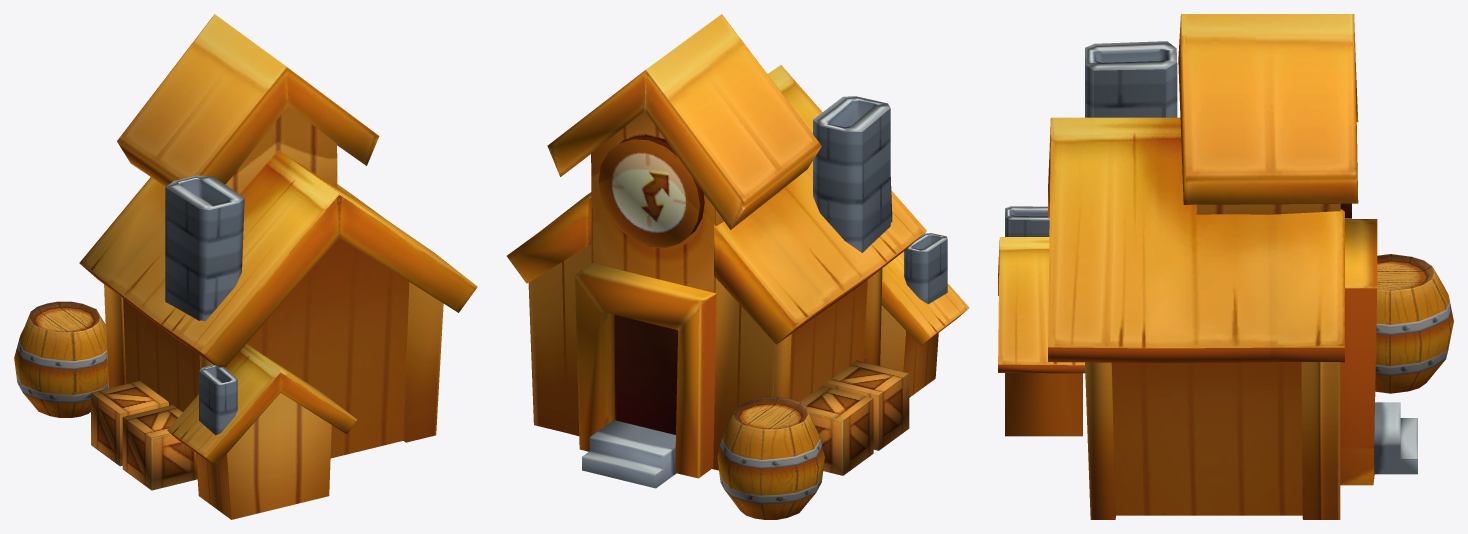
Rendered from TownCentreOdysseyStatue.fbx.
The picture shows the model from 3 angles, left to right: view 1: azimuth 30°, elevation 25°; view 2: azimuth 150°, elevation 25°; view 3: azimuth 270°, elevation 25°; orthographic projection. The views are drawn at different scales.
Parts seen in each view (by area): view 1: TownCenter; view 2: TownCenter; view 3: TownCenter.
Part boxes in pixels (bbox=[...]): TownCenter: bbox=[14, 14, 477, 519]; TownCenter: bbox=[506, 14, 969, 519]; TownCenter: bbox=[998, 14, 1453, 519].
Size of the model in its own units: 17.08 by 19.05 by 17.76.
Materials: 1 (1 with a texture image).
